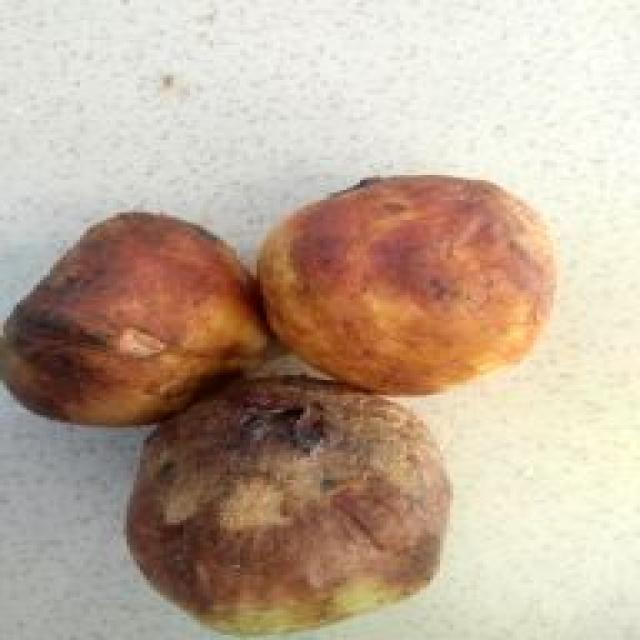Bad_Guava: (127, 376, 452, 632), (3, 212, 268, 424)
